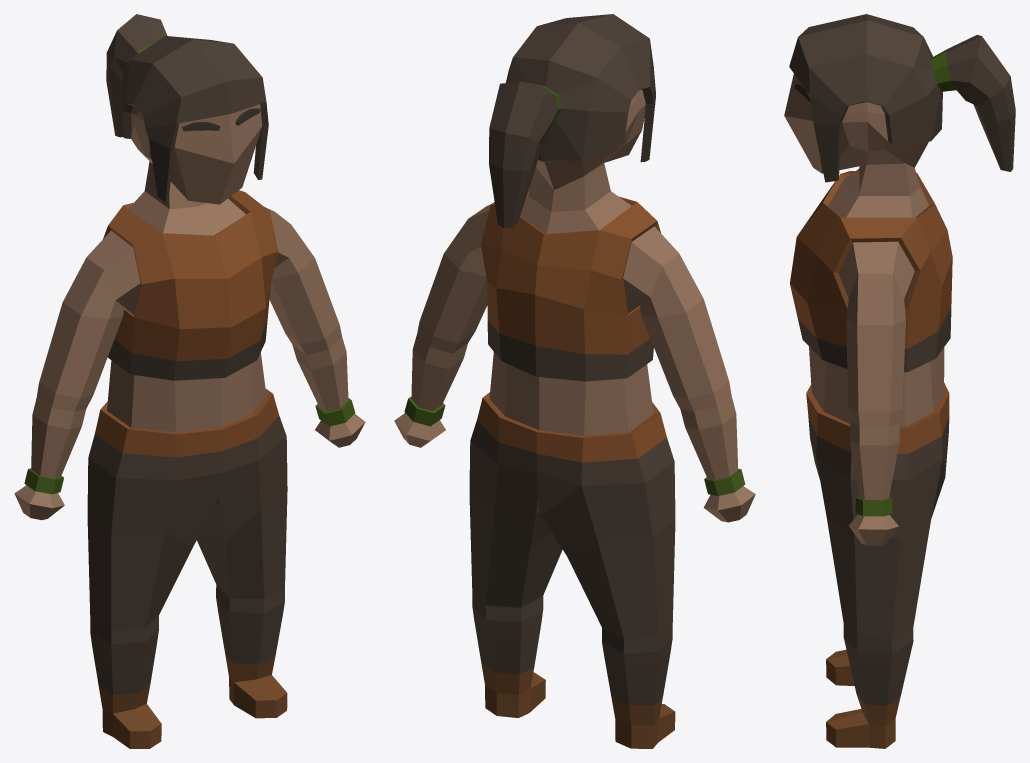
The model's file is NativeWoman01.fbx.
3 views of the same model, side by side, from view 1: azimuth 30°, elevation 25°; view 2: azimuth 150°, elevation 25°; view 3: azimuth 270°, elevation 25° (orthographic). The views are drawn at different scales.
Parts seen in each view (by area): view 1: NativeWoman01; view 2: NativeWoman01; view 3: NativeWoman01.
Boxes of the visible parts, left/top/right/bottom form: NativeWoman01: left=14, top=14, right=365, bottom=748; NativeWoman01: left=394, top=14, right=755, bottom=748; NativeWoman01: left=784, top=14, right=1015, bottom=748.
Size of the model in its own units: 41.08 by 79.06 by 24.11.
